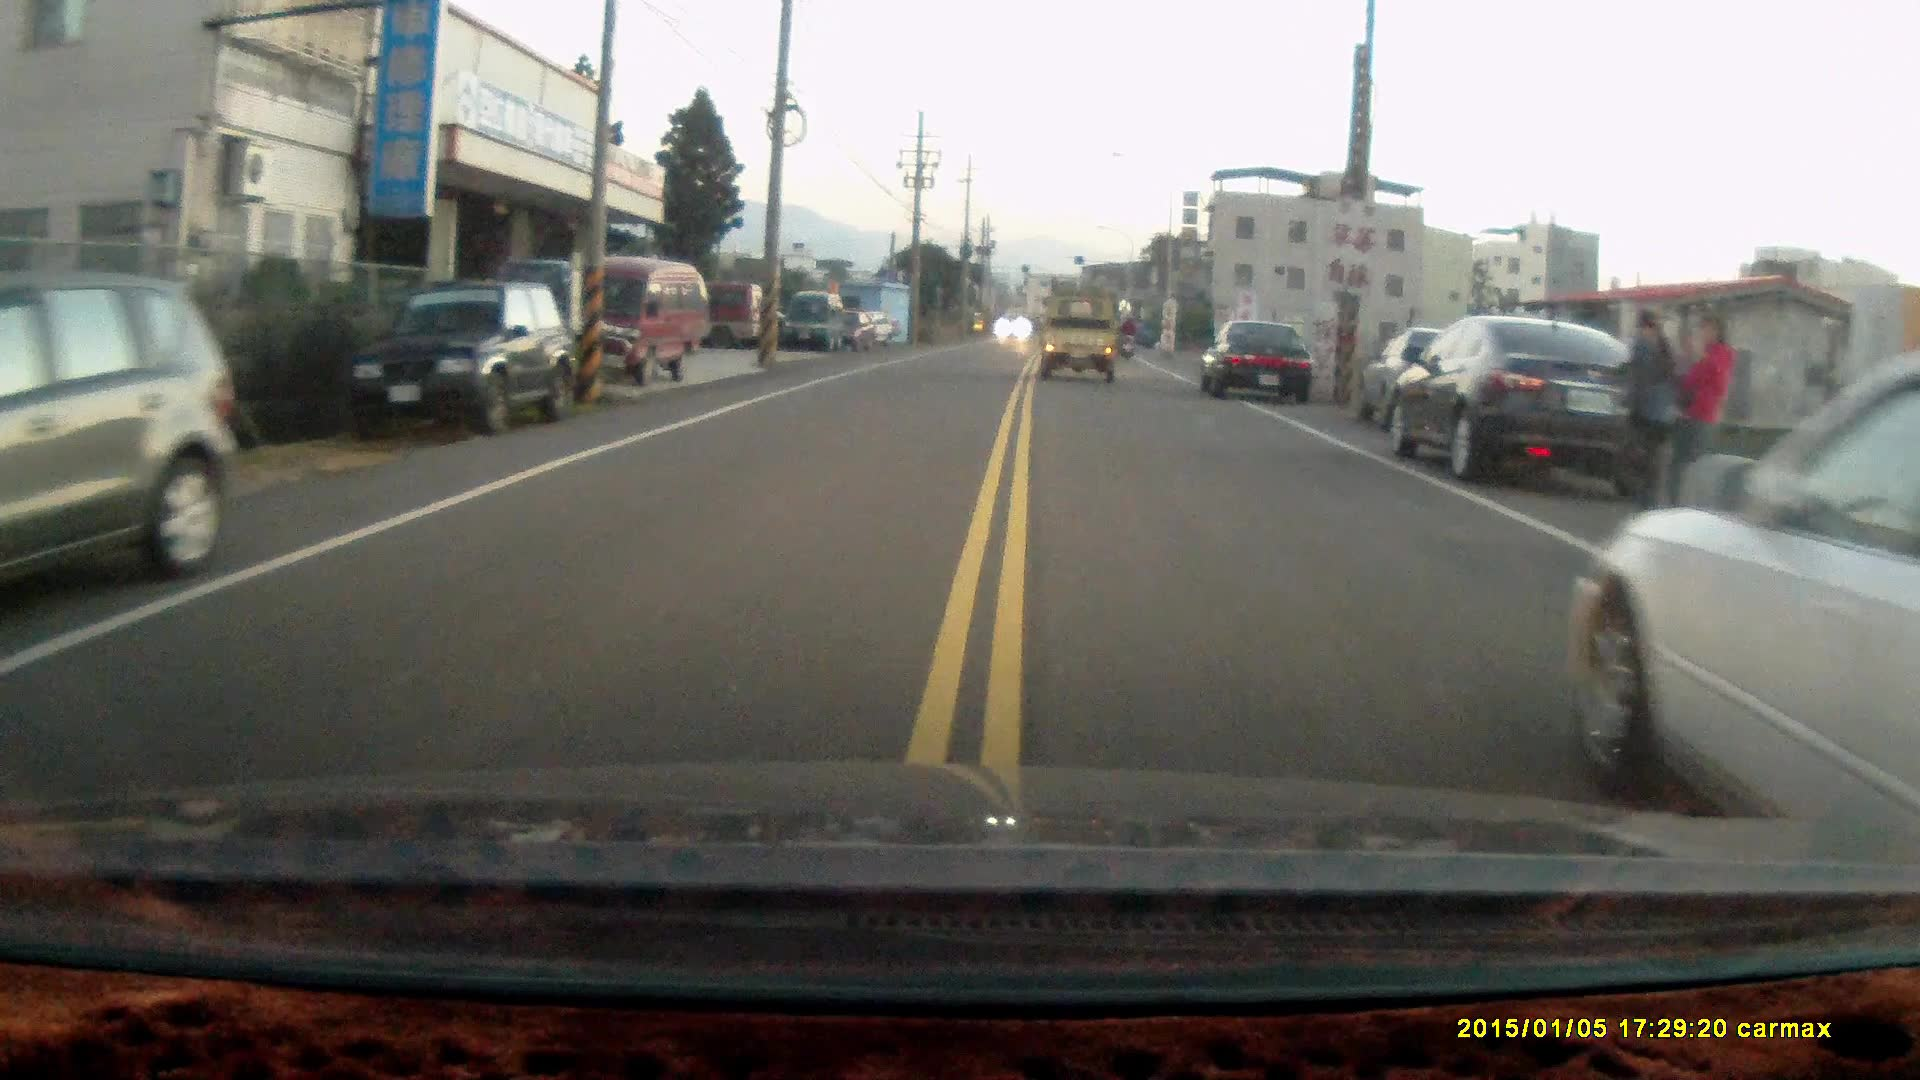pedestrian: (1605, 308, 1682, 529), (1666, 311, 1737, 528)
vehicle: (1565, 342, 1920, 837), (2, 265, 241, 602), (1381, 318, 1680, 487), (349, 279, 568, 439), (543, 253, 714, 383), (1201, 319, 1317, 404), (1037, 289, 1123, 387), (780, 293, 849, 352)
